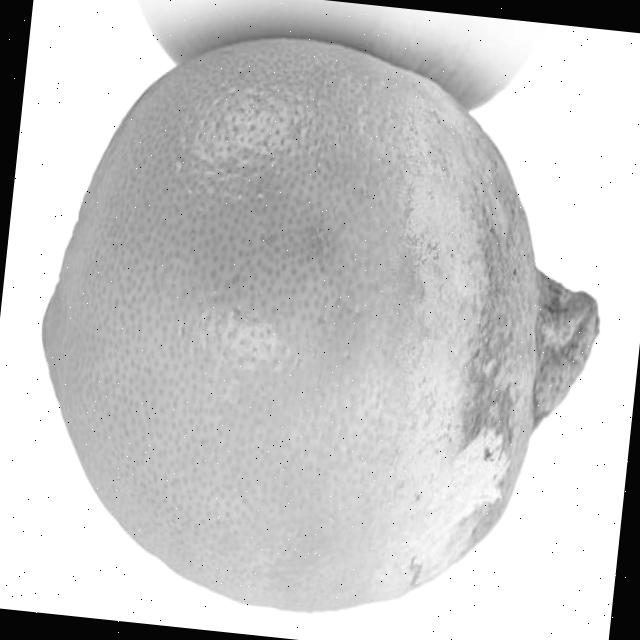Rotten: (12, 9, 627, 638)
